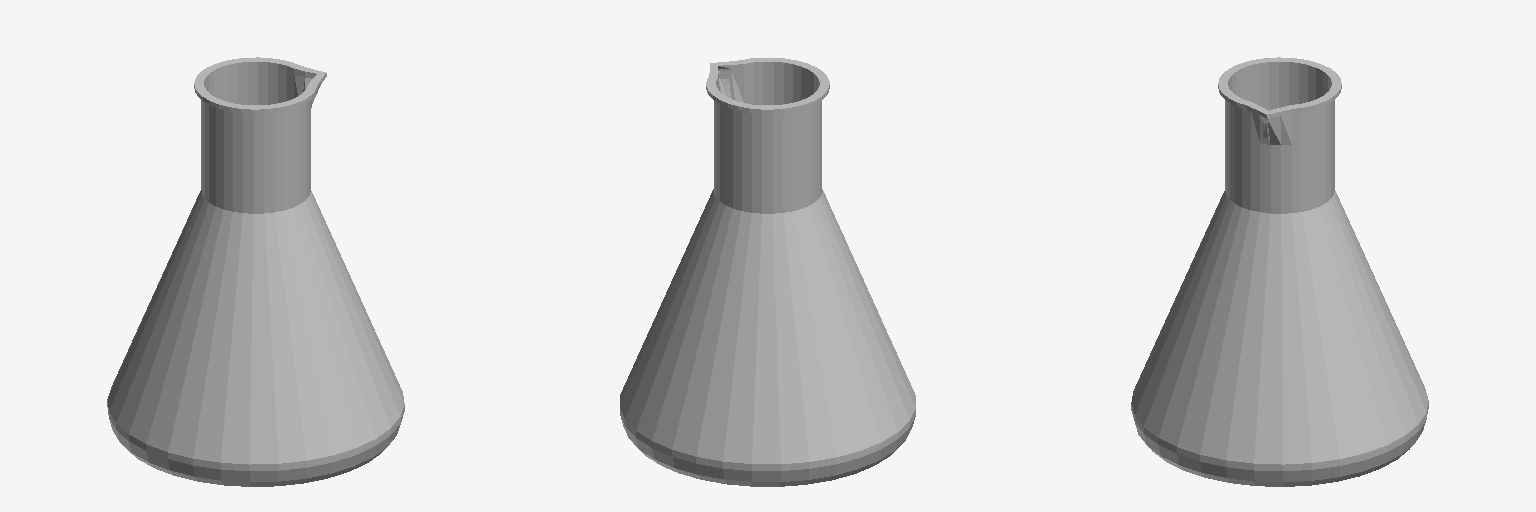
Rendered from tubo8.obj.
3 renders of one model, left to right at view 1: azimuth 30°, elevation 25°; view 2: azimuth 150°, elevation 25°; view 3: azimuth 270°, elevation 25°, orthographic.
Parts seen in each view (by area): view 1: erlenmayer_turbosquid__1_1:Mesh group10; view 2: erlenmayer_turbosquid__1_1:Mesh group10; view 3: erlenmayer_turbosquid__1_1:Mesh group10.
Boxes of the visible parts, box(x1,y1,x2,y2) form: erlenmayer_turbosquid__1_1:Mesh group10: box(107, 57, 404, 486); erlenmayer_turbosquid__1_1:Mesh group10: box(620, 58, 915, 486); erlenmayer_turbosquid__1_1:Mesh group10: box(1131, 57, 1428, 486).
Size of the model in its own units: 0.2232 by 0.2855 by 0.2232.